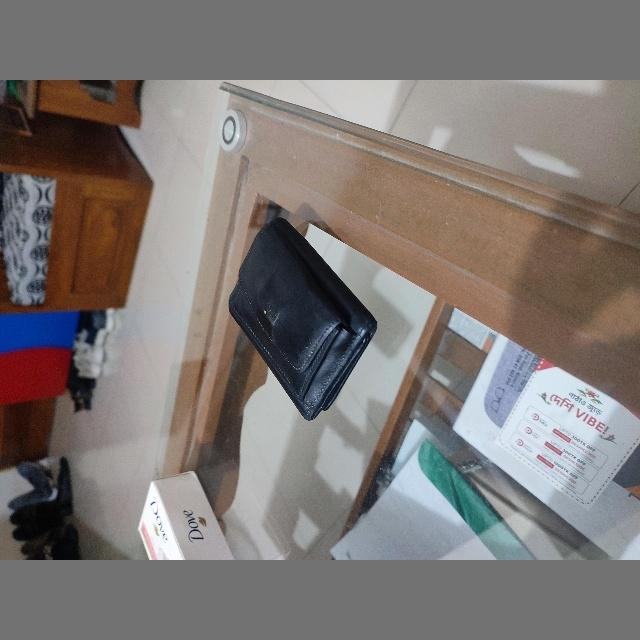Wallet: (228, 218, 378, 422)
